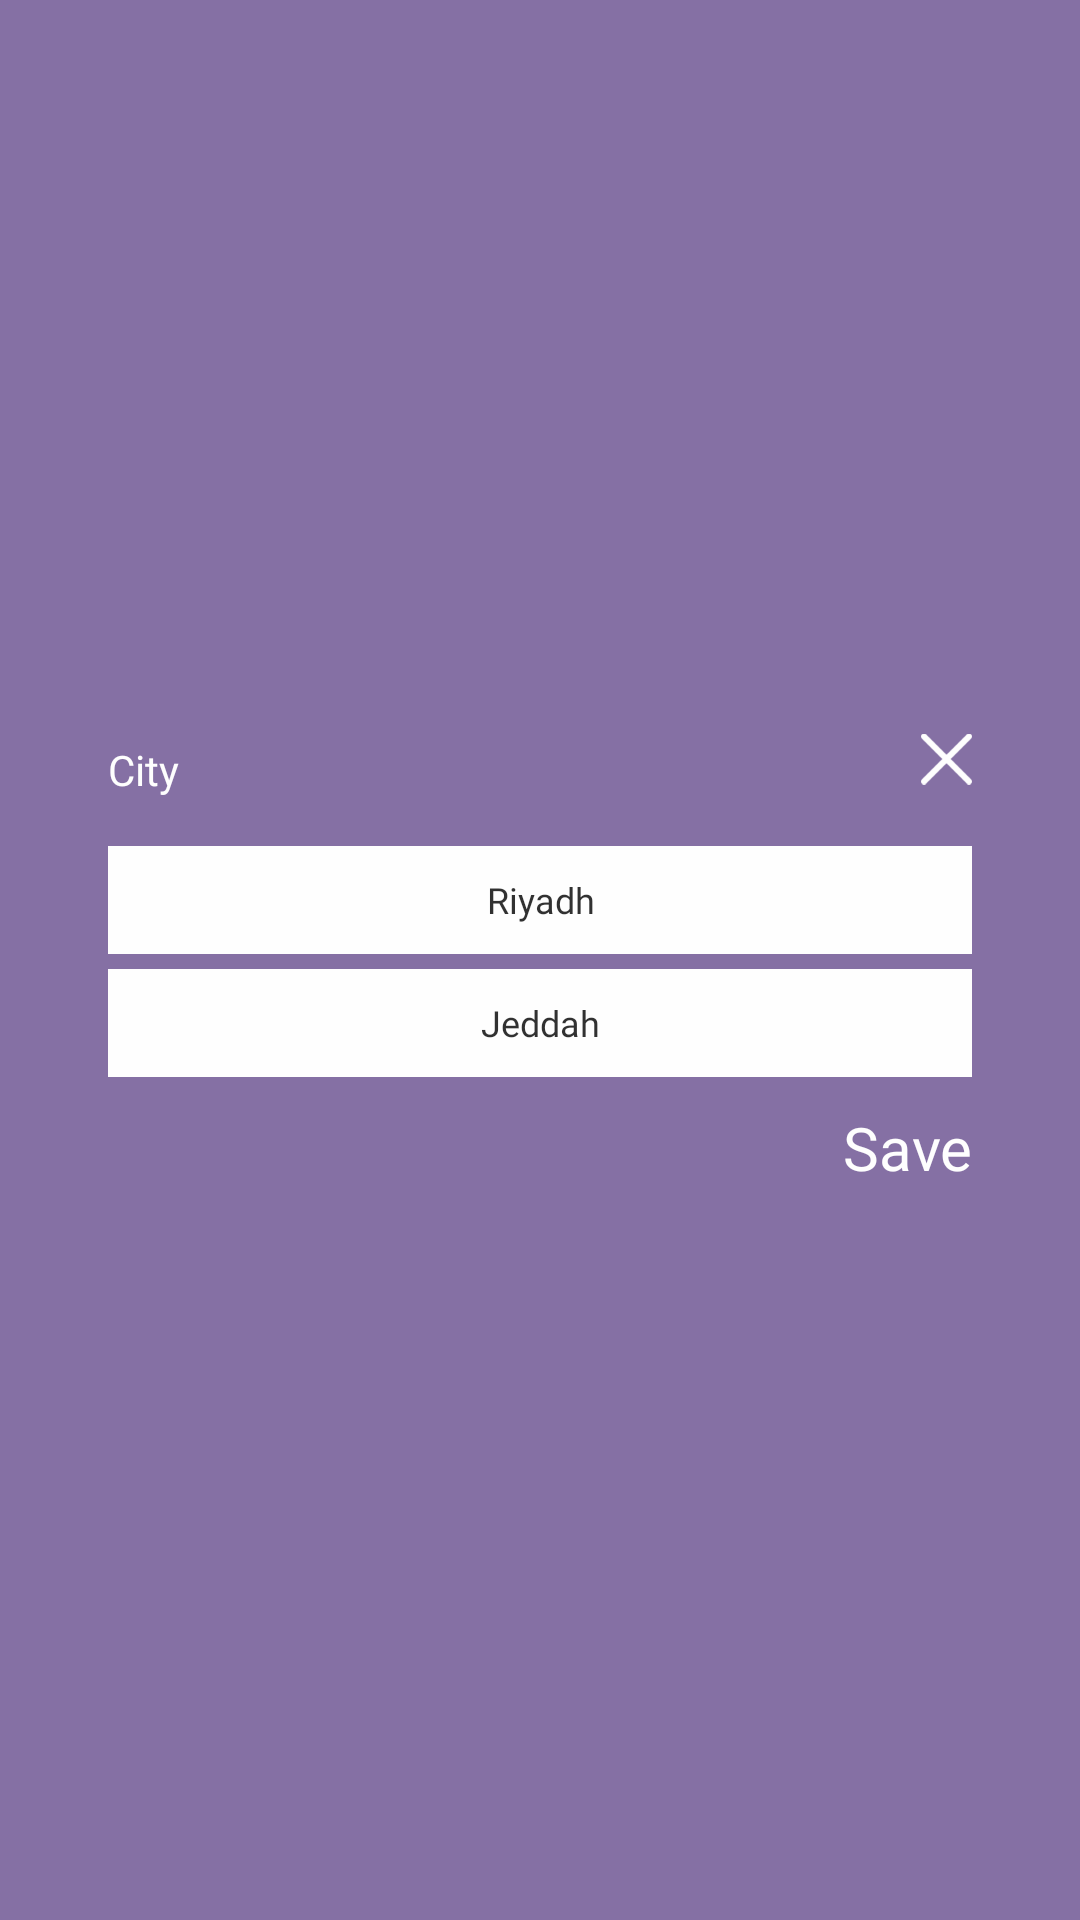

Named icons in this screenshot (1080×1920) and their bounding boxes, (x1, y1, x2, y2):
cross: (921, 734, 972, 785)
